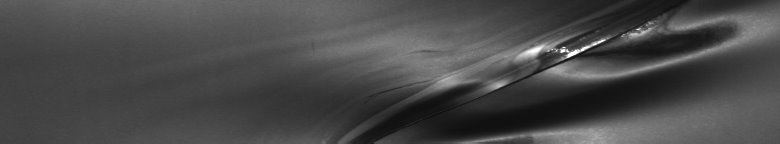ke: (344, 4, 776, 136)
